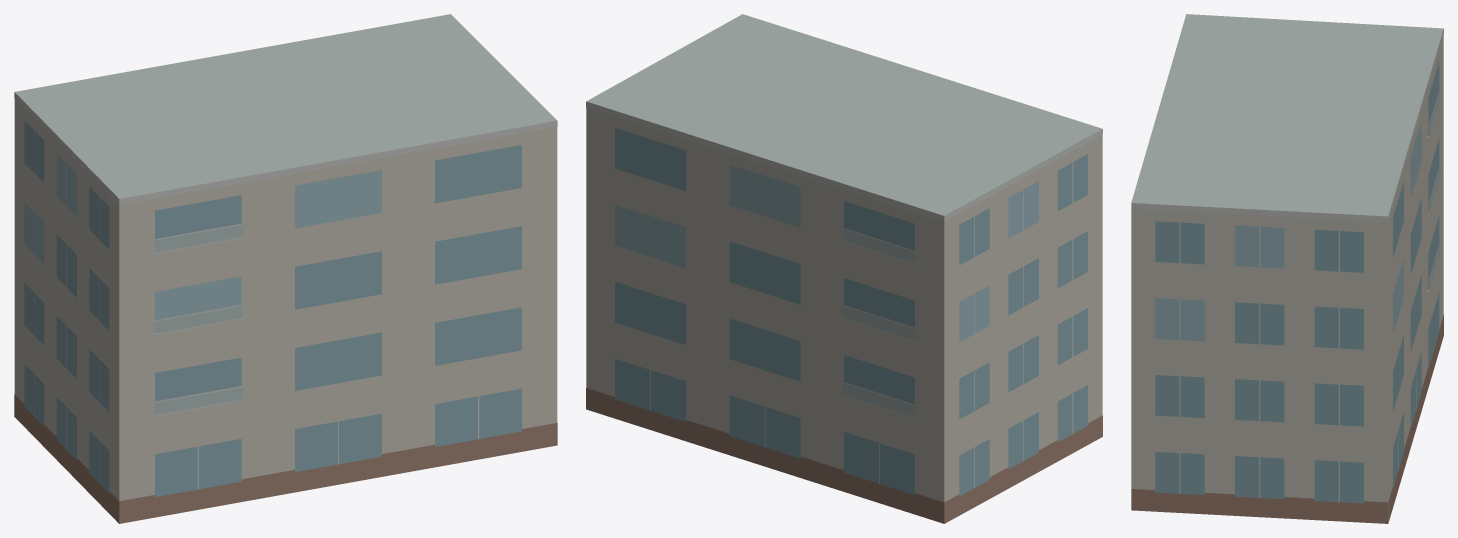
Rendered from survey-upis-32745208.glb.
3 renders of one model, left to right at view 1: azimuth 30°, elevation 25°; view 2: azimuth 150°, elevation 25°; view 3: azimuth 270°, elevation 25°, orthographic. The views are drawn at different scales.
Parts seen in each view (by area): view 1: survey-upis-32745208.tmp; view 2: survey-upis-32745208.tmp; view 3: survey-upis-32745208.tmp.
Part boxes in pixels (bbox=[...]): survey-upis-32745208.tmp: bbox=[14, 14, 557, 523]; survey-upis-32745208.tmp: bbox=[586, 14, 1102, 523]; survey-upis-32745208.tmp: bbox=[1131, 14, 1443, 523].
Size of the model in its own units: 18.37 by 13 by 11.99.
